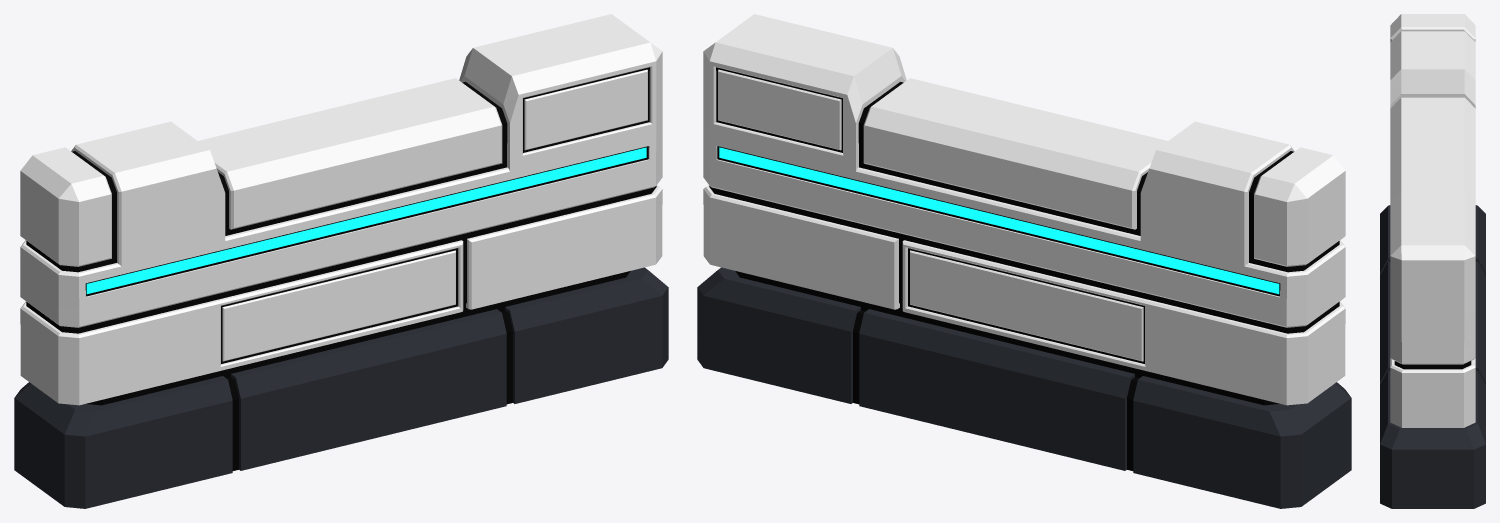
The model's file is SM_Wall_low_1x05.fbx.
The picture shows the model from 3 angles, left to right: view 1: azimuth 30°, elevation 25°; view 2: azimuth 150°, elevation 25°; view 3: azimuth 270°, elevation 25°; orthographic projection. The views are drawn at different scales.
Visible parts, largest first — view 1: SM_Wall_low_1x05; view 2: SM_Wall_low_1x05; view 3: SM_Wall_low_1x05.
Part boxes in pixels (box(x1,y1,x2,y2)): SM_Wall_low_1x05: box(14, 14, 668, 508); SM_Wall_low_1x05: box(697, 14, 1351, 508); SM_Wall_low_1x05: box(1380, 14, 1485, 508).
Bounding box in the file's own units: 100 × 50 × 18.54.
